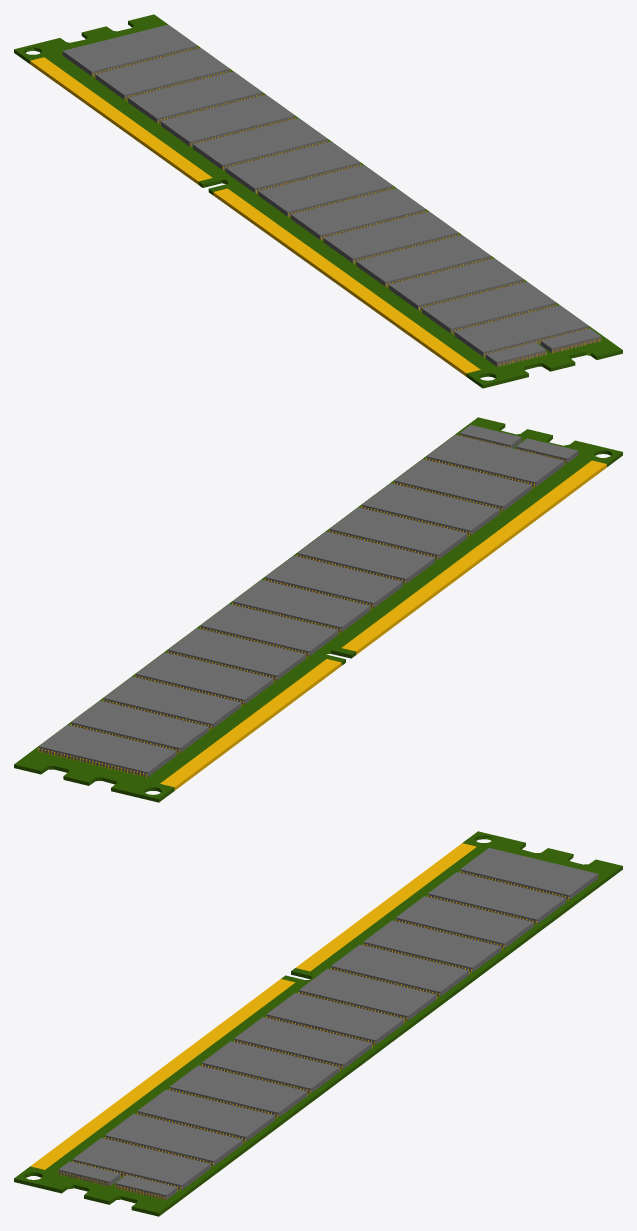
File: memory.obj
3 renders of one model, top to bottom at view 1: azimuth 30°, elevation 25°; view 2: azimuth 150°, elevation 25°; view 3: azimuth 330°, elevation 25°, orthographic. The views are drawn at different scales.
Parts seen in each view (by area): view 1: Mesh31 Model, Mesh25 Component_2_25 pcchip_1_25 Model, Mesh11 Component_2_11 pcchip_1_11 Model, Mesh2 Component_2_2 pcchip_1_2 Model, Mesh13 Component_2_13 pcchip_1_13 Model, Mesh21 Component_2_21 pcchip_1_21 Model, Mesh12 Component_2_12 pcchip_1_12 Model, Mesh10 Component_2_10 pcchip_1_10 Model, Mesh24 Component_2_24 pcchip_1_24 Model, Mesh3 Component_2_3 pcchip_1_3 Model, Mesh1 Component_2_1 pcchip_1_1 Model, Mesh22 Component_2_22 pcchip_1_22 Model (+4 smaller); view 2: Mesh31 Model, Mesh21 Component_2_21 pcchip_1_21 Model, Mesh25 Component_2_25 pcchip_1_25 Model, Mesh26 Component_2_26 pcchip_1_26 Model, Mesh3 Component_2_3 pcchip_1_3 Model, Mesh22 Component_2_22 pcchip_1_22 Model, Mesh23 Component_2_23 pcchip_1_23 Model, Mesh1 Component_2_1 pcchip_1_1 Model, Mesh11 Component_2_11 pcchip_1_11 Model, Mesh12 Component_2_12 pcchip_1_12 Model, Mesh24 Component_2_24 pcchip_1_24 Model, Mesh10 Component_2_10 pcchip_1_10 Model (+4 smaller); view 3: Mesh31 Model, Mesh25 Component_2_25 pcchip_1_25 Model, Mesh1 Component_2_1 pcchip_1_1 Model, Mesh22 Component_2_22 pcchip_1_22 Model, Mesh26 Component_2_26 pcchip_1_26 Model, Mesh11 Component_2_11 pcchip_1_11 Model, Mesh3 Component_2_3 pcchip_1_3 Model, Mesh12 Component_2_12 pcchip_1_12 Model, Mesh13 Component_2_13 pcchip_1_13 Model, Mesh21 Component_2_21 pcchip_1_21 Model, Mesh24 Component_2_24 pcchip_1_24 Model, Mesh2 Component_2_2 pcchip_1_2 Model (+4 smaller).
Boxes of the visible parts, x1=… form: Mesh31 Model: x1=14, y1=14, x2=622, y2=388; Mesh25 Component_2_25 pcchip_1_25 Model: x1=323, y1=211, x2=458, y2=263; Mesh11 Component_2_11 pcchip_1_11 Model: x1=290, y1=188, x2=426, y2=240; Mesh2 Component_2_2 pcchip_1_2 Model: x1=95, y1=48, x2=230, y2=100; Mesh13 Component_2_13 pcchip_1_13 Model: x1=225, y1=141, x2=360, y2=193; Mesh21 Component_2_21 pcchip_1_21 Model: x1=62, y1=24, x2=197, y2=76; Mesh12 Component_2_12 pcchip_1_12 Model: x1=258, y1=165, x2=393, y2=216; Mesh10 Component_2_10 pcchip_1_10 Model: x1=356, y1=235, x2=491, y2=287; Mesh24 Component_2_24 pcchip_1_24 Model: x1=388, y1=258, x2=524, y2=310; Mesh3 Component_2_3 pcchip_1_3 Model: x1=127, y1=71, x2=262, y2=123; Mesh1 Component_2_1 pcchip_1_1 Model: x1=193, y1=118, x2=328, y2=170; Mesh22 Component_2_22 pcchip_1_22 Model: x1=160, y1=95, x2=295, y2=146; Mesh31 Model: x1=14, y1=417, x2=622, y2=802; Mesh21 Component_2_21 pcchip_1_21 Model: x1=38, y1=725, x2=176, y2=777; Mesh25 Component_2_25 pcchip_1_25 Model: x1=296, y1=531, x2=435, y2=584; Mesh26 Component_2_26 pcchip_1_26 Model: x1=393, y1=459, x2=532, y2=511; Mesh3 Component_2_3 pcchip_1_3 Model: x1=103, y1=676, x2=241, y2=729; Mesh22 Component_2_22 pcchip_1_22 Model: x1=135, y1=652, x2=273, y2=705; Mesh23 Component_2_23 pcchip_1_23 Model: x1=426, y1=435, x2=564, y2=487; Mesh1 Component_2_1 pcchip_1_1 Model: x1=167, y1=628, x2=306, y2=681; Mesh11 Component_2_11 pcchip_1_11 Model: x1=264, y1=555, x2=402, y2=608; Mesh12 Component_2_12 pcchip_1_12 Model: x1=232, y1=580, x2=370, y2=632; Mesh24 Component_2_24 pcchip_1_24 Model: x1=361, y1=483, x2=499, y2=536; Mesh10 Component_2_10 pcchip_1_10 Model: x1=329, y1=507, x2=467, y2=560; Mesh31 Model: x1=14, y1=831, x2=622, y2=1216; Mesh25 Component_2_25 pcchip_1_25 Model: x1=201, y1=1041, x2=340, y2=1094; Mesh1 Component_2_1 pcchip_1_1 Model: x1=330, y1=944, x2=469, y2=997; Mesh22 Component_2_22 pcchip_1_22 Model: x1=363, y1=920, x2=501, y2=973; Mesh26 Component_2_26 pcchip_1_26 Model: x1=104, y1=1113, x2=243, y2=1166; Mesh11 Component_2_11 pcchip_1_11 Model: x1=234, y1=1017, x2=372, y2=1069; Mesh3 Component_2_3 pcchip_1_3 Model: x1=395, y1=896, x2=533, y2=949; Mesh12 Component_2_12 pcchip_1_12 Model: x1=266, y1=993, x2=404, y2=1045; Mesh13 Component_2_13 pcchip_1_13 Model: x1=298, y1=968, x2=437, y2=1021; Mesh21 Component_2_21 pcchip_1_21 Model: x1=460, y1=848, x2=598, y2=900; Mesh24 Component_2_24 pcchip_1_24 Model: x1=137, y1=1089, x2=275, y2=1142; Mesh2 Component_2_2 pcchip_1_2 Model: x1=427, y1=872, x2=566, y2=924.
Bounding box in the file's own units: 1.17 × 0.0994 × 6.3.
